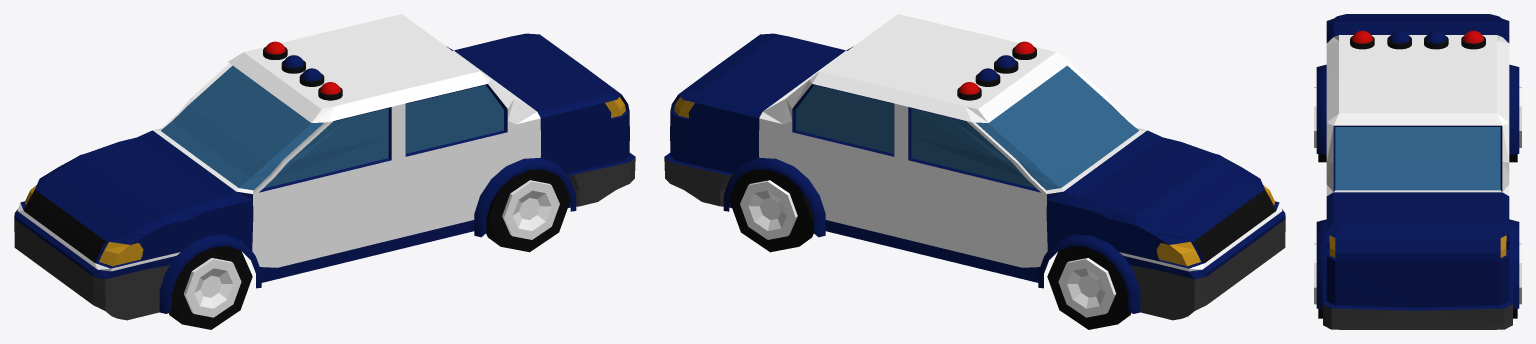
File: policja.FBX
3 views of the same model, side by side, from view 1: azimuth 30°, elevation 25°; view 2: azimuth 150°, elevation 25°; view 3: azimuth 270°, elevation 25° (orthographic).
Visible parts, largest first — view 1: Tube002; view 2: Tube002; view 3: Tube002.
Part boxes in pixels (x1=…): Tube002: x1=14, y1=14, x2=635, y2=329; Tube002: x1=664, y1=14, x2=1285, y2=329; Tube002: x1=1314, y1=14, x2=1521, y2=329.
Bounding box in the file's own units: 33.35 × 11.62 × 11.04.
